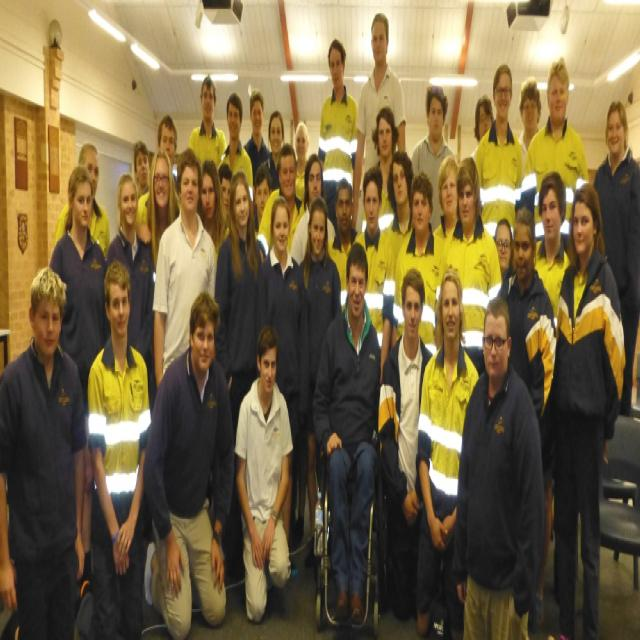body: (550, 177, 625, 638), (452, 291, 547, 639), (0, 264, 85, 638), (143, 290, 234, 638), (311, 238, 384, 627), (48, 163, 108, 602), (85, 257, 153, 640), (414, 262, 476, 638), (215, 164, 267, 582), (526, 170, 571, 630), (378, 265, 434, 619), (257, 194, 311, 546), (233, 318, 294, 624), (152, 146, 217, 392), (298, 193, 341, 564), (593, 99, 640, 418), (437, 152, 503, 378), (526, 55, 589, 263), (350, 10, 408, 235), (349, 162, 397, 392), (104, 170, 155, 383), (393, 169, 448, 356), (472, 62, 524, 242), (316, 37, 359, 236), (52, 139, 112, 263), (410, 83, 455, 236), (136, 149, 182, 275), (290, 149, 336, 266), (260, 142, 306, 253), (380, 149, 414, 278), (326, 176, 358, 313), (187, 74, 227, 176), (196, 155, 231, 271), (216, 91, 254, 190), (371, 106, 399, 218), (241, 90, 273, 186), (517, 74, 543, 173), (156, 112, 180, 190), (262, 108, 285, 189), (250, 160, 274, 237), (469, 92, 495, 161), (292, 118, 310, 214), (490, 214, 514, 278), (133, 137, 151, 201), (217, 160, 233, 216)
